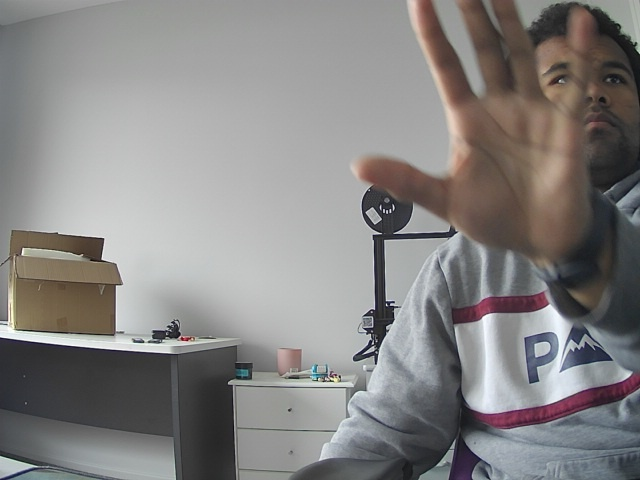Hello: (330, 1, 600, 254)
